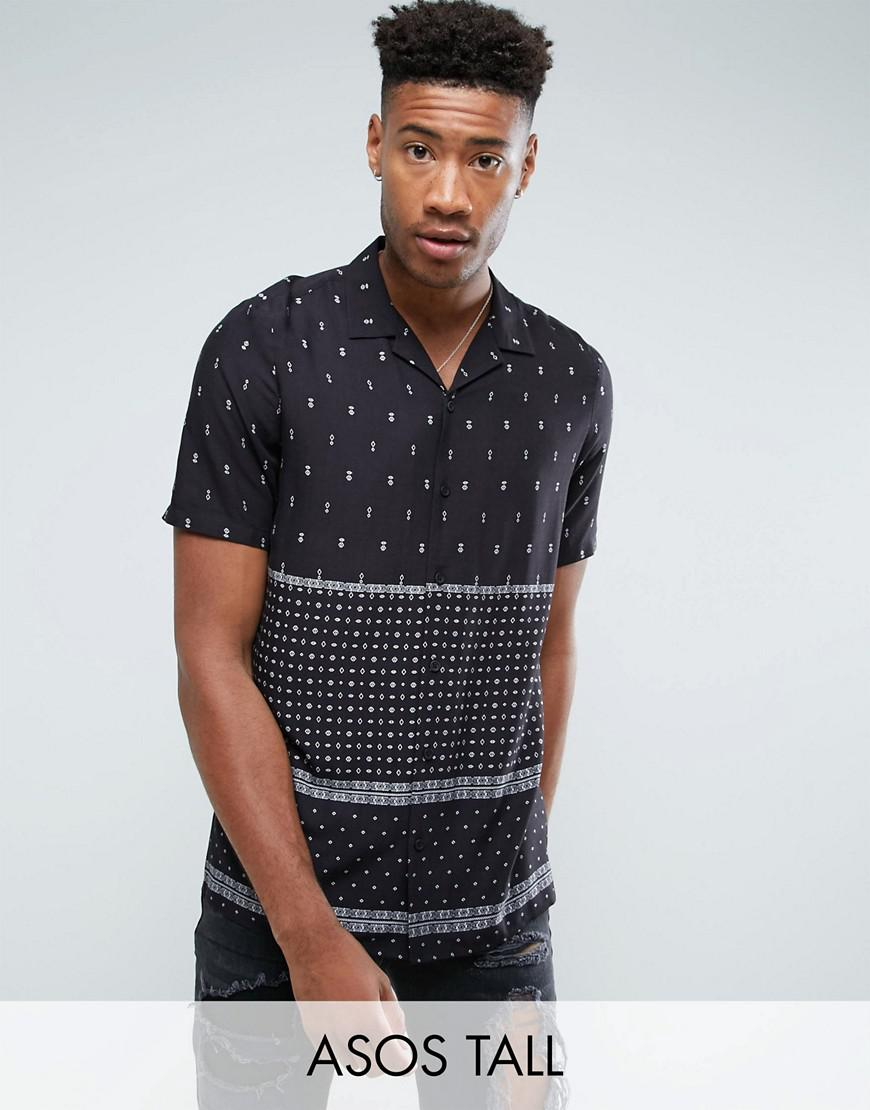teeshirt: (132, 252, 635, 939)
